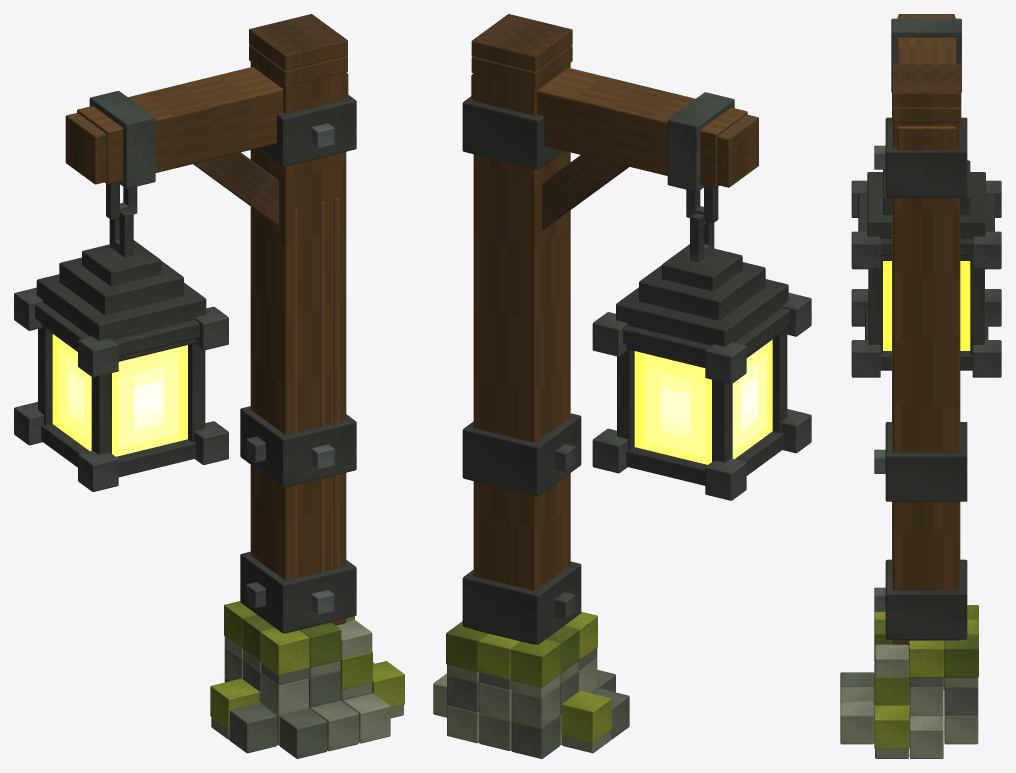
The model's file is SM_Blender_Lantern.glb.
3 renders of one model, left to right at view 1: azimuth 30°, elevation 25°; view 2: azimuth 150°, elevation 25°; view 3: azimuth 270°, elevation 25°, orthographic. The views are drawn at different scales.
Parts seen in each view (by area): view 1: SM_Blender_Lantern; view 2: SM_Blender_Lantern; view 3: SM_Blender_Lantern.
Part boxes in pixels (x1,y1,x2,y2): SM_Blender_Lantern: [14, 14, 404, 758]; SM_Blender_Lantern: [433, 14, 811, 758]; SM_Blender_Lantern: [840, 14, 1001, 758].
Bounding box in the file's own units: 1.59 × 3.18 × 0.7205.
Materials: 1 (1 with a texture image).
